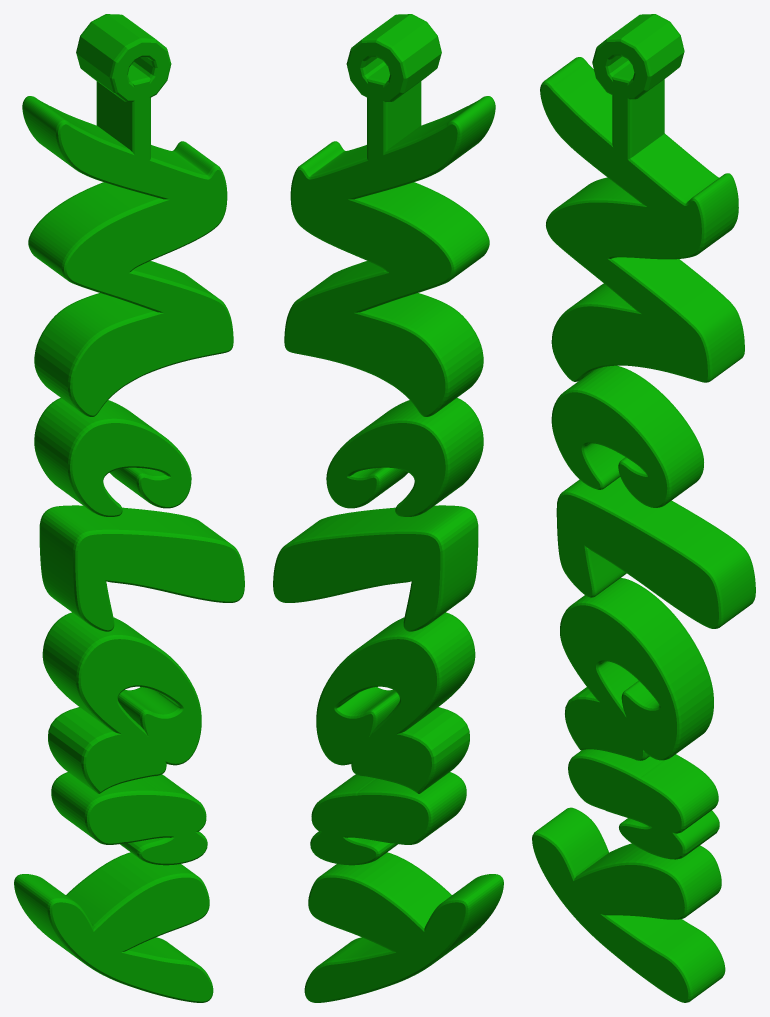
File: butter_tag.glb
The picture shows the model from 3 angles, left to right: view 1: azimuth 30°, elevation 25°; view 2: azimuth 150°, elevation 25°; view 3: azimuth 330°, elevation 25°; orthographic projection. The views are drawn at different scales.
Visible parts, largest first — view 1: butter_low; view 2: butter_low; view 3: butter_low.
Boxes of the visible parts, <box> form: butter_low: <box>14,14,244,1002</box>; butter_low: <box>273,14,503,1002</box>; butter_low: <box>532,14,755,1002</box>.
Size of the model in its own units: 0.3161 by 1.51 by 0.103.
